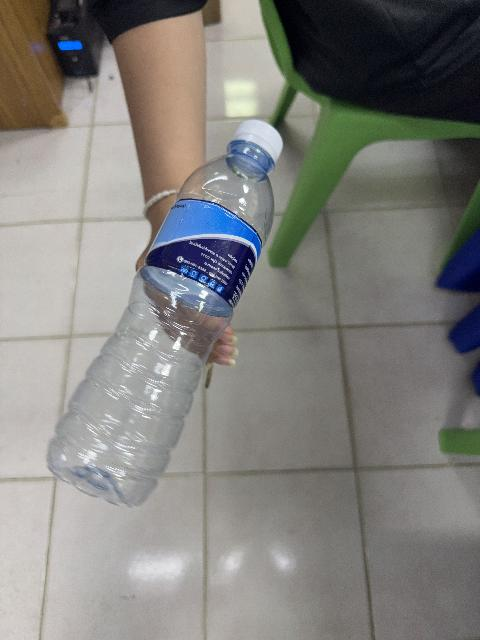bottle: (47, 121, 282, 506)
